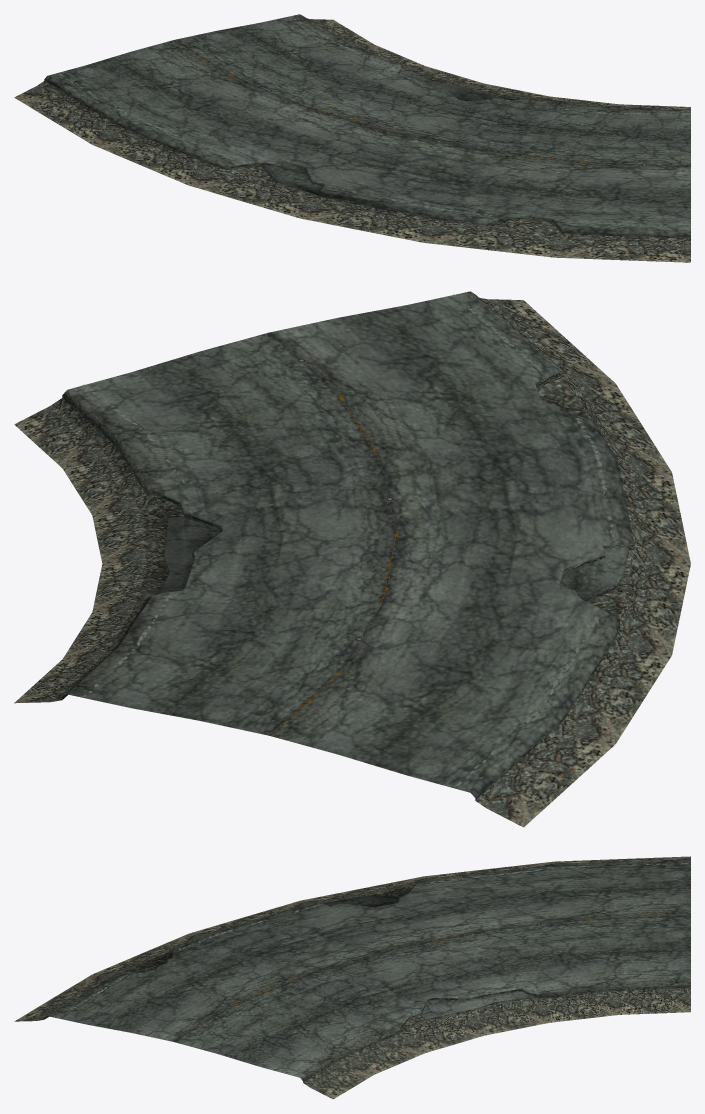
The model's file is RoadCurve45.obj.
3 views of the same model, one above another, from view 1: azimuth 30°, elevation 25°; view 2: azimuth 150°, elevation 25°; view 3: azimuth 270°, elevation 25° (orthographic). The views are drawn at different scales.
Visible parts, largest first — view 1: __PrenotatoPerDuplicare_1; view 2: __PrenotatoPerDuplicare_1; view 3: __PrenotatoPerDuplicare_1.
Part boxes in pixels (left/top/right/bottom): __PrenotatoPerDuplicare_1: left=14, top=14, right=690, bottom=262; __PrenotatoPerDuplicare_1: left=14, top=291, right=690, bottom=827; __PrenotatoPerDuplicare_1: left=14, top=856, right=690, bottom=1099.
Size of the model in its own units: 986 by 38.11 by 1160.
